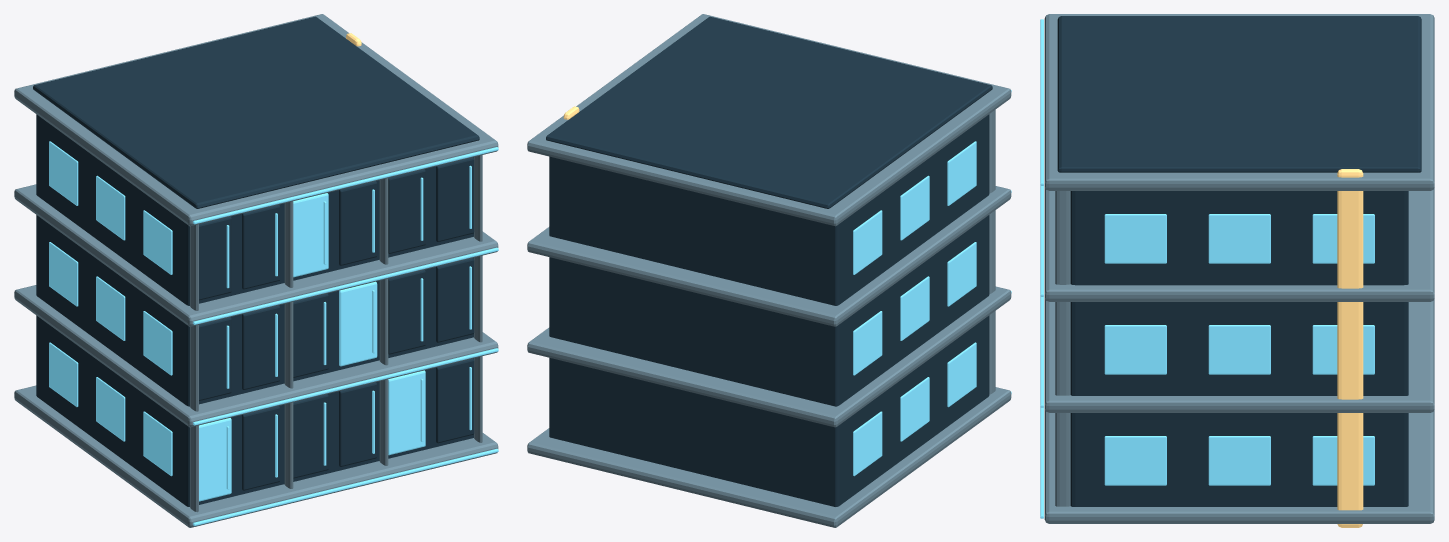
File: mina_archive.glb
The picture shows the model from 3 angles, left to right: view 1: azimuth 30°, elevation 25°; view 2: azimuth 150°, elevation 25°; view 3: azimuth 270°, elevation 25°; orthographic projection. The views are drawn at different scales.
Parts seen in each view (by area): view 1: ArchiveFloor; view 2: ArchiveFloor; view 3: ArchiveFloor.
Boxes of the visible parts, x1,y1,x2,y2 form: ArchiveFloor: (14, 14, 498, 527); ArchiveFloor: (527, 14, 1011, 527); ArchiveFloor: (1040, 14, 1434, 527).
Bounding box in the file's own units: 1 × 1 × 1.
